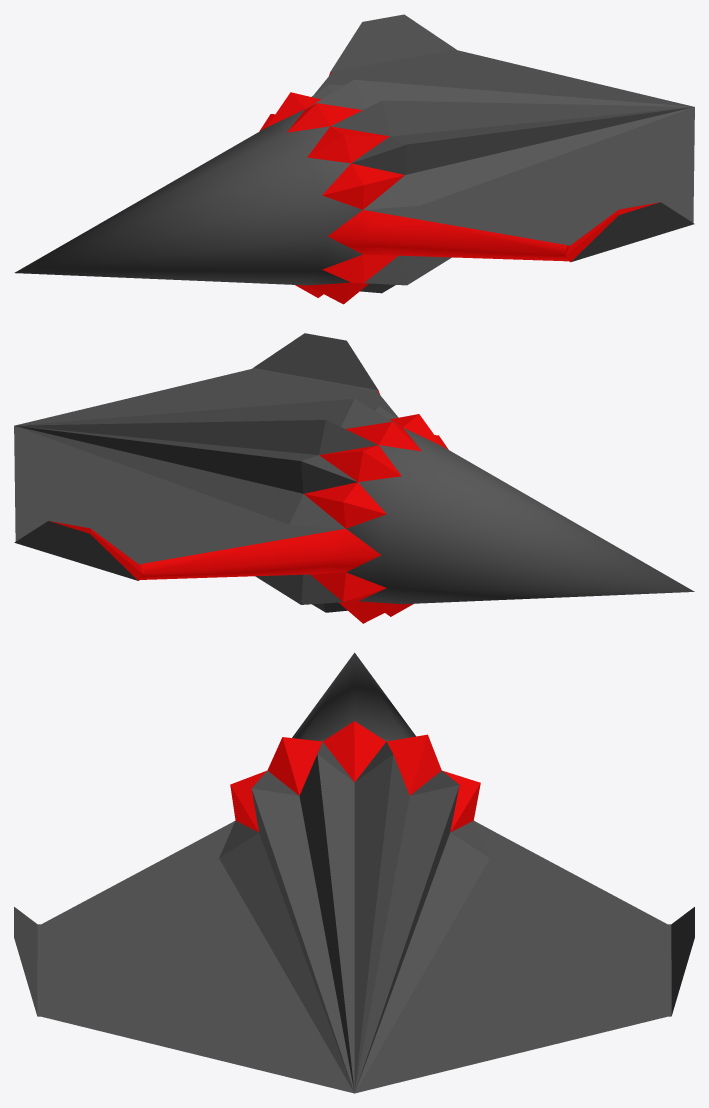
File: Enemy_Medium.fbx
3 views of the same model, one above another, from view 1: azimuth 30°, elevation 25°; view 2: azimuth 150°, elevation 25°; view 3: azimuth 270°, elevation 25° (orthographic). The views are drawn at different scales.
Parts seen in each view (by area): view 1: Enemy_Medium; view 2: Enemy_Medium; view 3: Enemy_Medium.
Boxes of the visible parts, left/top/right/bottom form: Enemy_Medium: left=14, top=14, right=694, bottom=304; Enemy_Medium: left=14, top=333, right=694, bottom=623; Enemy_Medium: left=14, top=652, right=694, bottom=1093.
Size of the model in its own units: 42.56 by 11.69 by 27.77.
